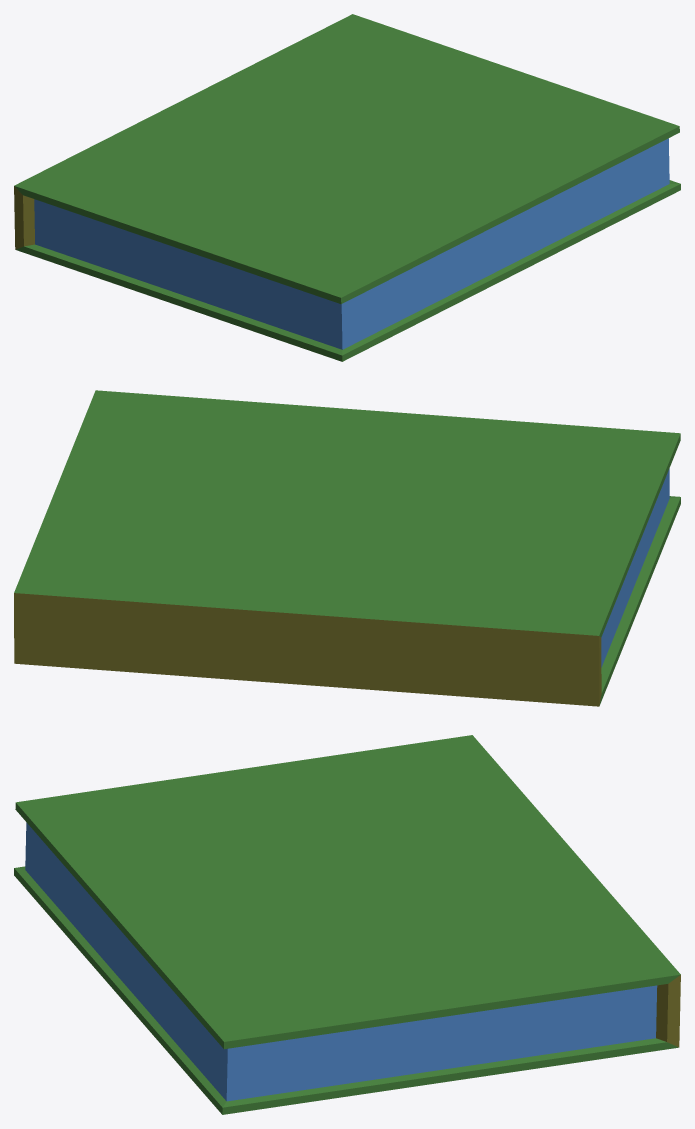
Rendered from Livingroom2_Book_2.fbx.
3 renders of one model, top to bottom at view 1: azimuth 30°, elevation 25°; view 2: azimuth 150°, elevation 25°; view 3: azimuth 270°, elevation 25°, orthographic. The views are drawn at different scales.
Parts seen in each view (by area): view 1: Livingroom2_Book_2; view 2: Livingroom2_Book_2; view 3: Livingroom2_Book_2.
Boxes of the visible parts, x1,y1,x2,y2 form: Livingroom2_Book_2: (14, 14, 680, 361); Livingroom2_Book_2: (14, 390, 680, 706); Livingroom2_Book_2: (14, 735, 680, 1114).
Size of the model in its own units: 42.77 by 4.9 by 38.77.
